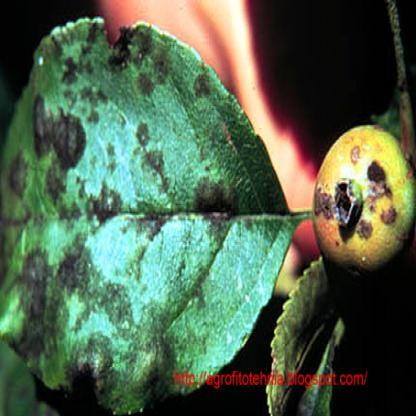Apple Scab Leaf: (1, 16, 296, 414)
